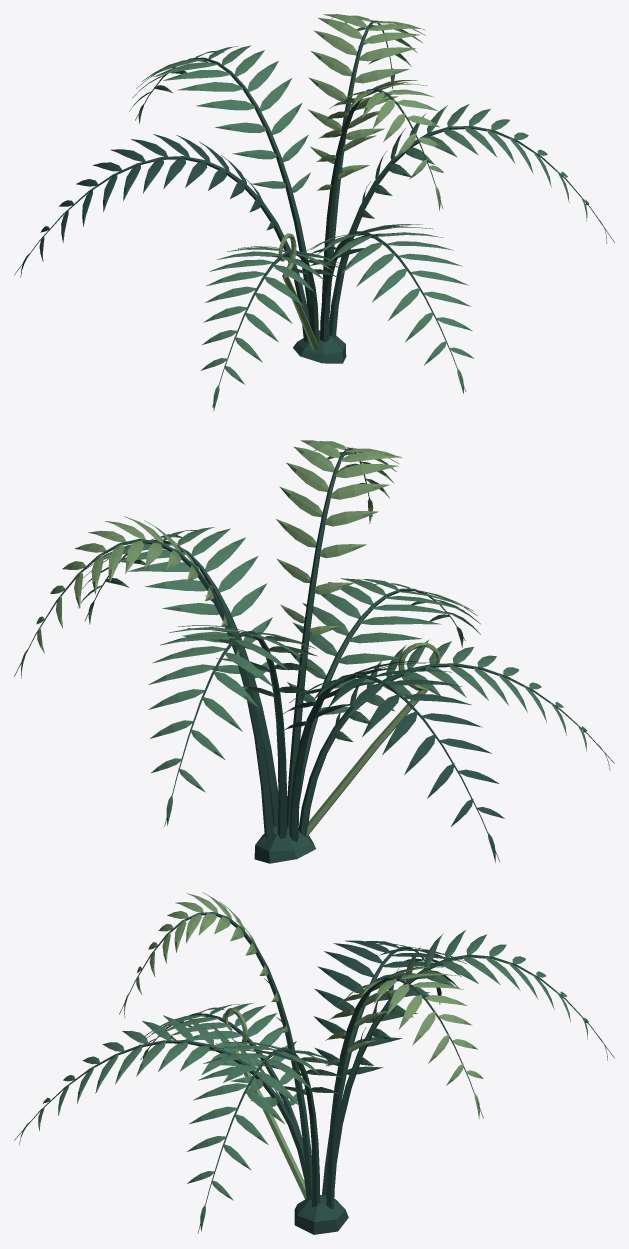
Rendered from fern-cluster.glb.
3 renders of one model, top to bottom at view 1: azimuth 30°, elevation 25°; view 2: azimuth 150°, elevation 25°; view 3: azimuth 270°, elevation 25°, orthographic. The views are drawn at different scales.
Parts seen in each view (by area): view 1: Fern material-batched export; view 2: Fern material-batched export; view 3: Fern material-batched export.
Boxes of the visible parts, x1,y1,x2,y2 form: Fern material-batched export: (14, 14, 614, 411); Fern material-batched export: (14, 440, 614, 863); Fern material-batched export: (14, 892, 614, 1234).
Size of the model in its own units: 1.42 by 0.8818 by 1.52.
